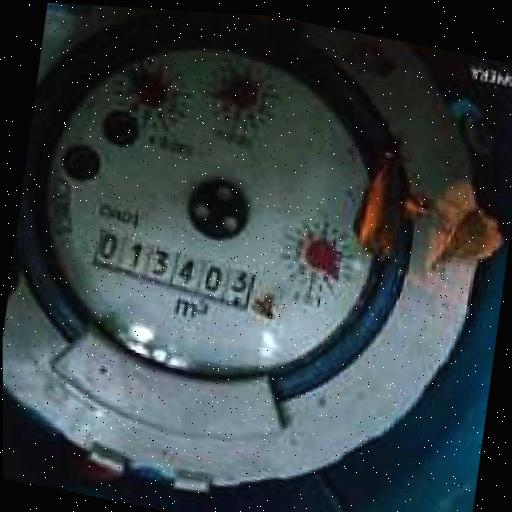0: (95, 229, 124, 270), (199, 261, 229, 300)
1: (120, 237, 149, 277)
3: (224, 269, 254, 310), (144, 245, 174, 284)
4: (171, 254, 202, 292)
border_water_meter_number: (87, 225, 260, 316)
